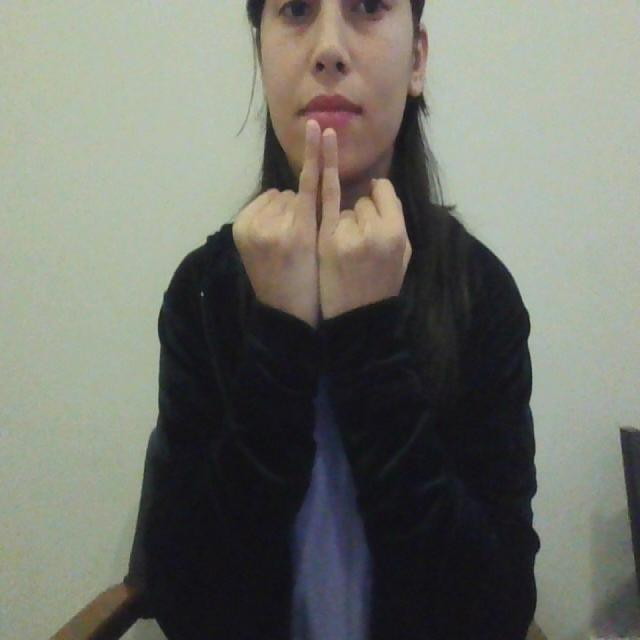Kardes: (231, 115, 418, 338)
